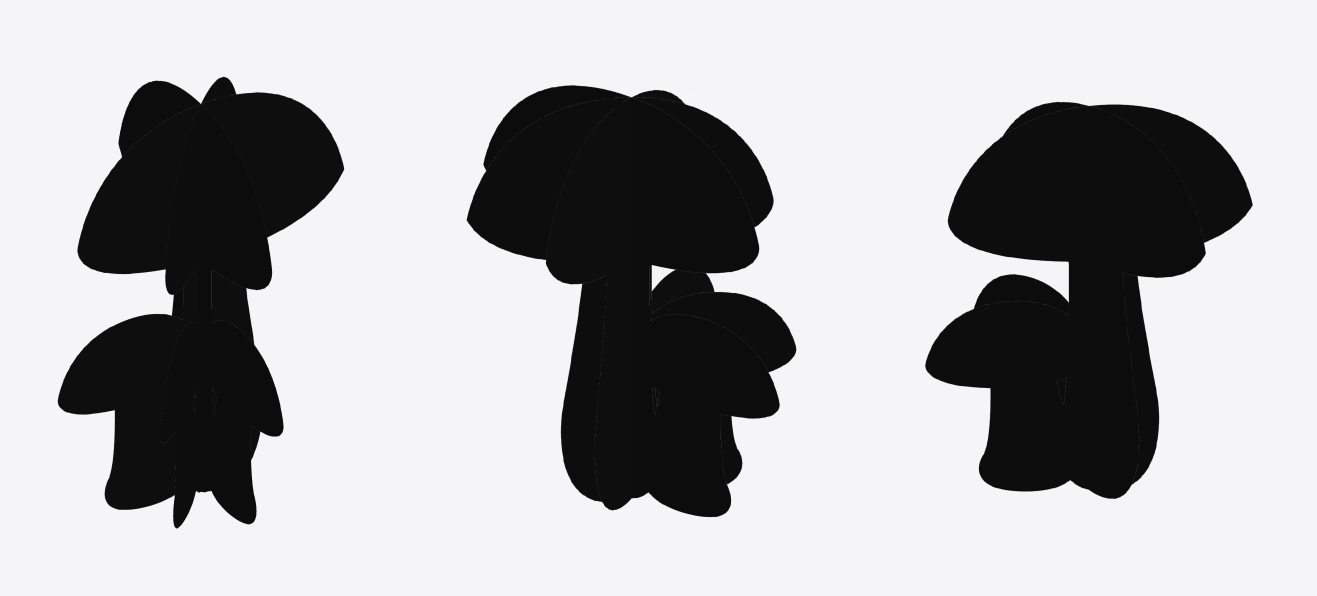
Rendered from MushroomDuo.glb.
The picture shows the model from 3 angles, left to right: view 1: azimuth 30°, elevation 25°; view 2: azimuth 150°, elevation 25°; view 3: azimuth 270°, elevation 25°; orthographic projection. The views are drawn at different scales.
Parts seen in each view (by area): view 1: MushwoomDuo; view 2: MushwoomDuo; view 3: MushwoomDuo.
Boxes of the visible parts, x1,y1,x2,y2 form: MushwoomDuo: [57, 76, 344, 528]; MushwoomDuo: [466, 85, 796, 516]; MushwoomDuo: [925, 102, 1252, 498].
Size of the model in its own units: 2 by 2 by 2.
Materials: 1 (1 with a texture image).
